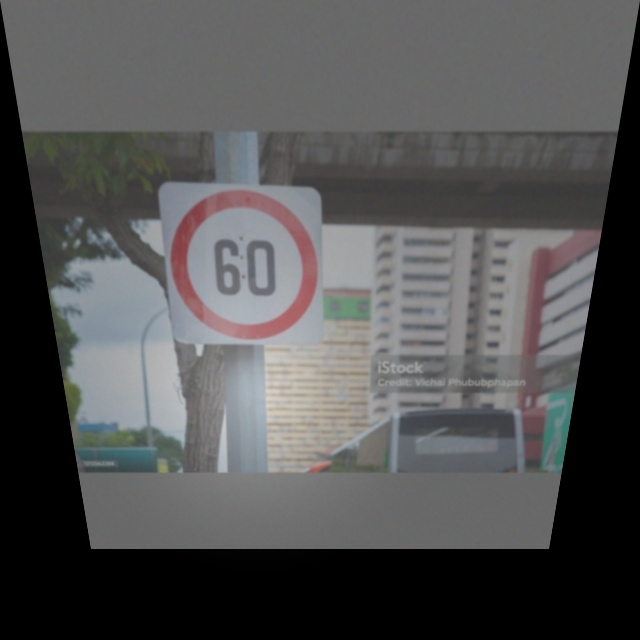Speed_Limit_60: (160, 186, 325, 346)
